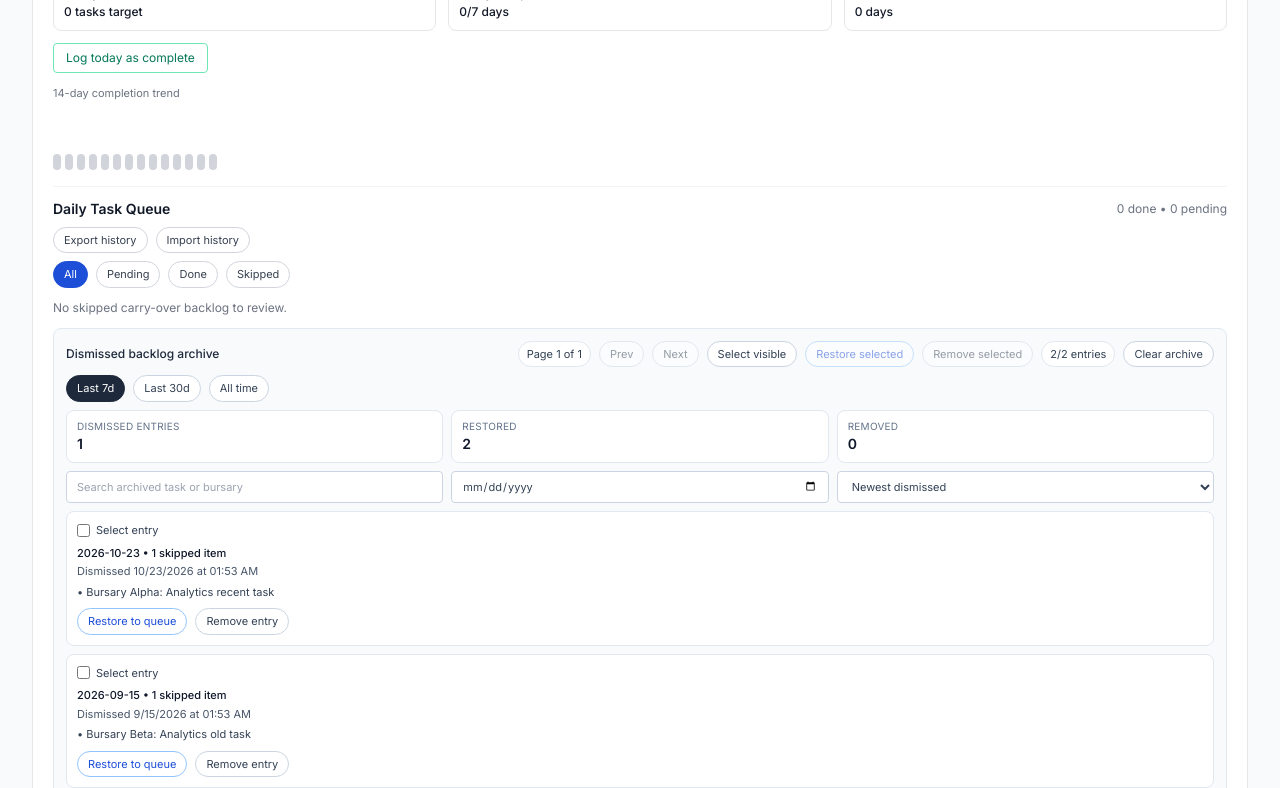
Test: ApplicationTracker phase 2.5 interactions › shows archive analytics and updates with quick date presets
(page scrolled)
Check: the text "Dismissed entries" is shown, box [77,420,180,432]
Check: the text "Restored" is shown, box [462,420,517,432]
Click the button "All time" at (239, 388), box [209,375,269,402]
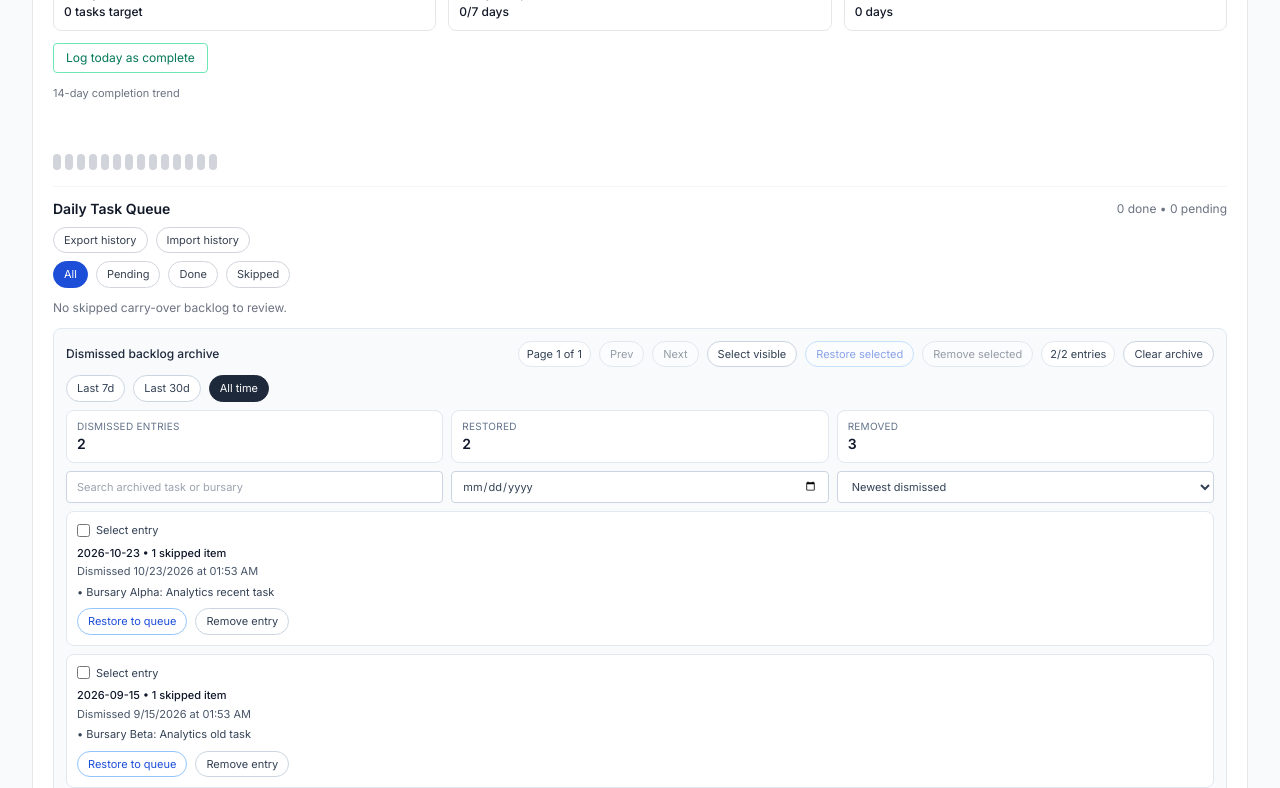
Check: the text with test id "archive-analytics-dismissed" reads "2", box [77,434,86,452]
Check: the text with test id "archive-analytics-removed" reads "3", box [848,434,857,452]
